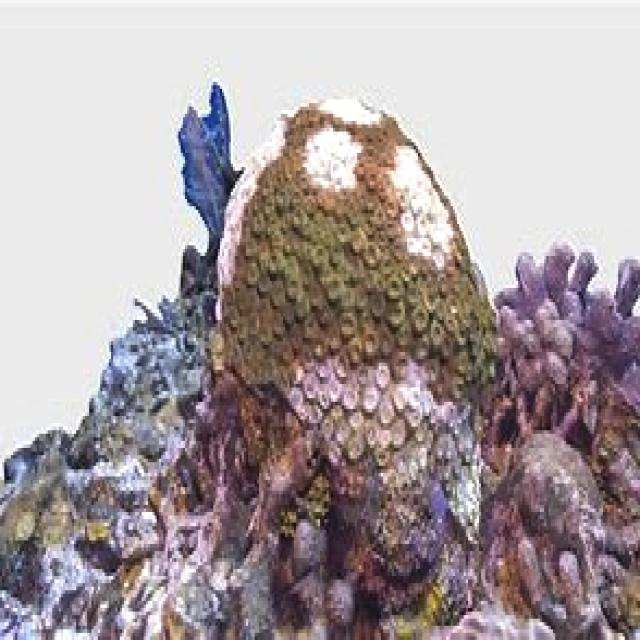Coral: (215, 95, 502, 627)
